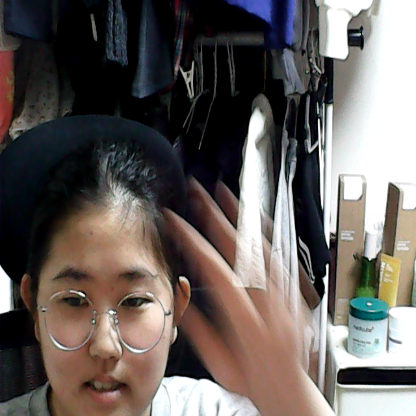Finger_5: (146, 169, 331, 405)
